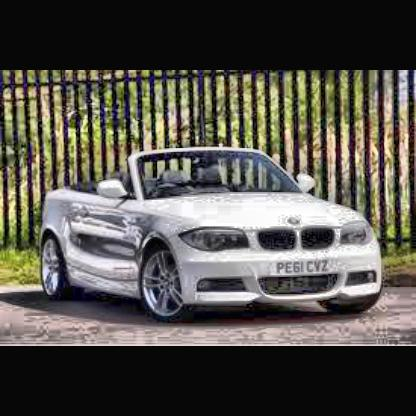BMW 1 Series Convertible 2012: (38, 146, 391, 329)
